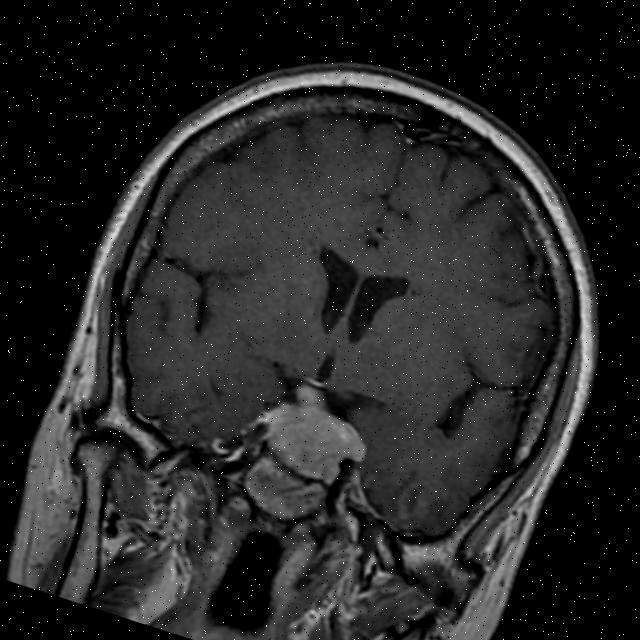Pituitary: (246, 368, 382, 492), (234, 457, 328, 530)
